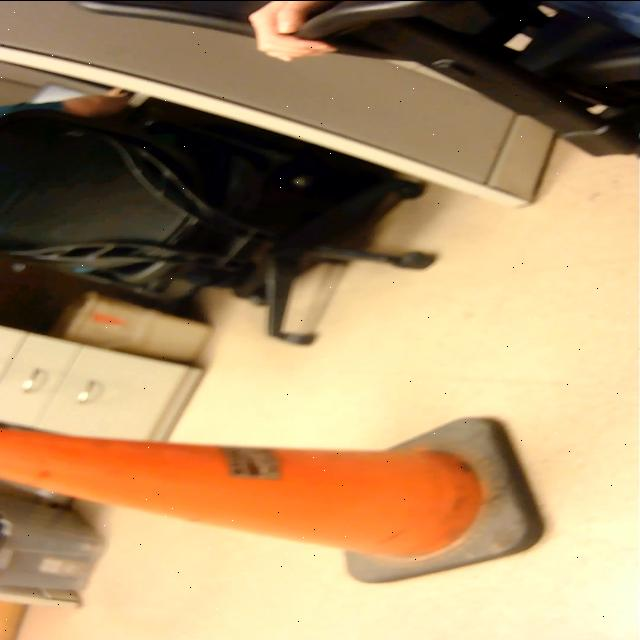traffic cone: (2, 412, 556, 590)
